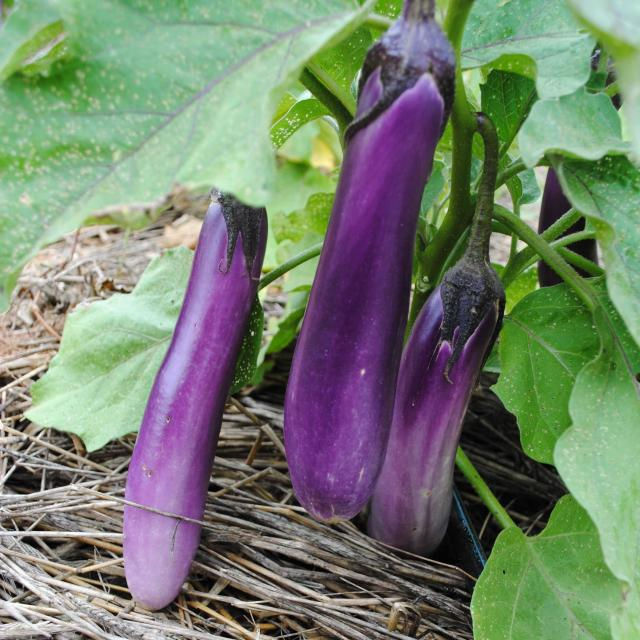Eggplant-r1Ob: (285, 0, 456, 523), (124, 202, 268, 610), (369, 287, 498, 556)
